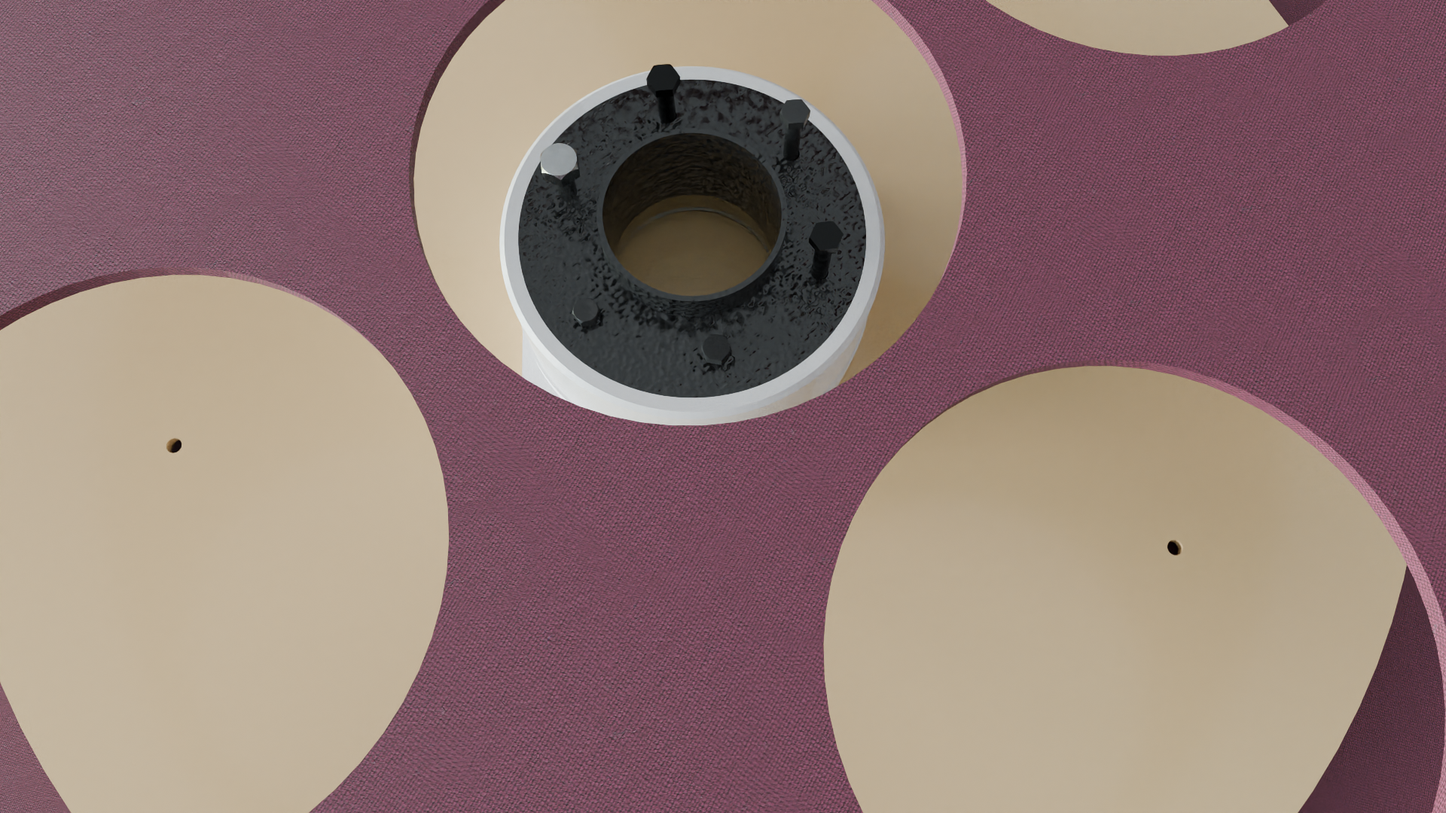bolt: (540, 143, 578, 180), (810, 221, 844, 250), (646, 64, 680, 91), (701, 333, 731, 361), (779, 99, 810, 123), (572, 298, 599, 323)
